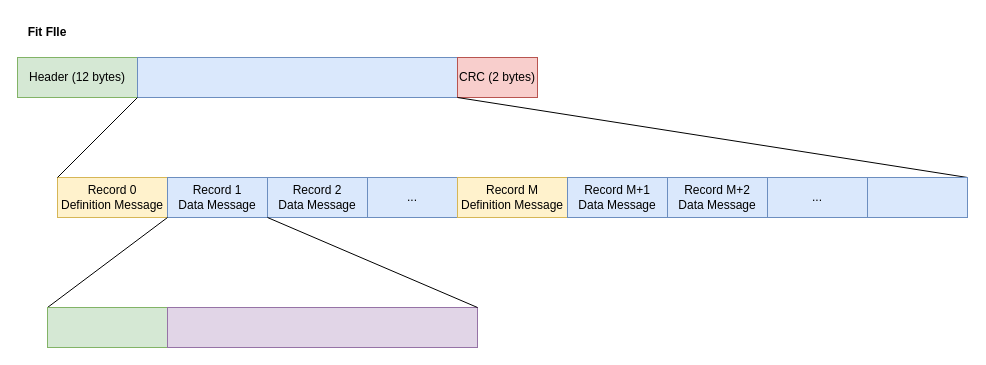
Some shapes in this 986 by 365 pixel diagram are drawn without their labels. Here are the shapes that lost their labels. From the top down, the centre of each, then its label:
At point 297,77: "Data Records".
At point 917,197: "Record N Data Message".
At point 107,327: "Header (1 byte)".
At point 322,327: "Message payload".
